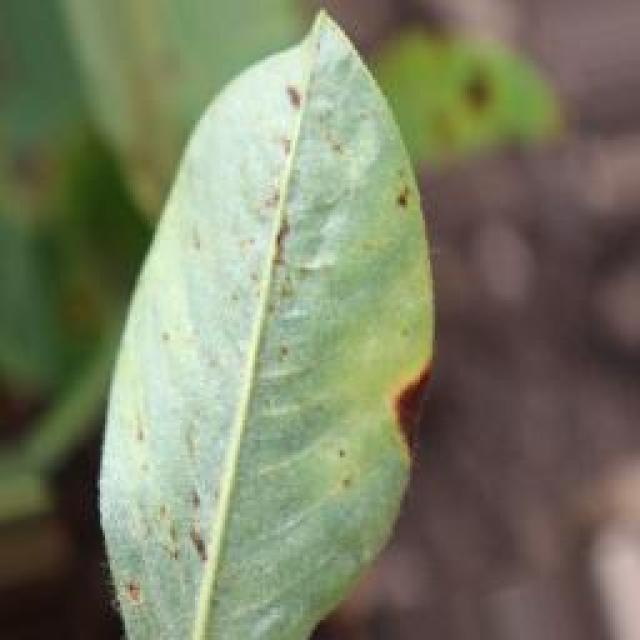Early_leaf_spot: (359, 322, 448, 478), (258, 161, 306, 317), (379, 160, 447, 248), (160, 463, 213, 549), (266, 55, 310, 132), (108, 570, 146, 636)
